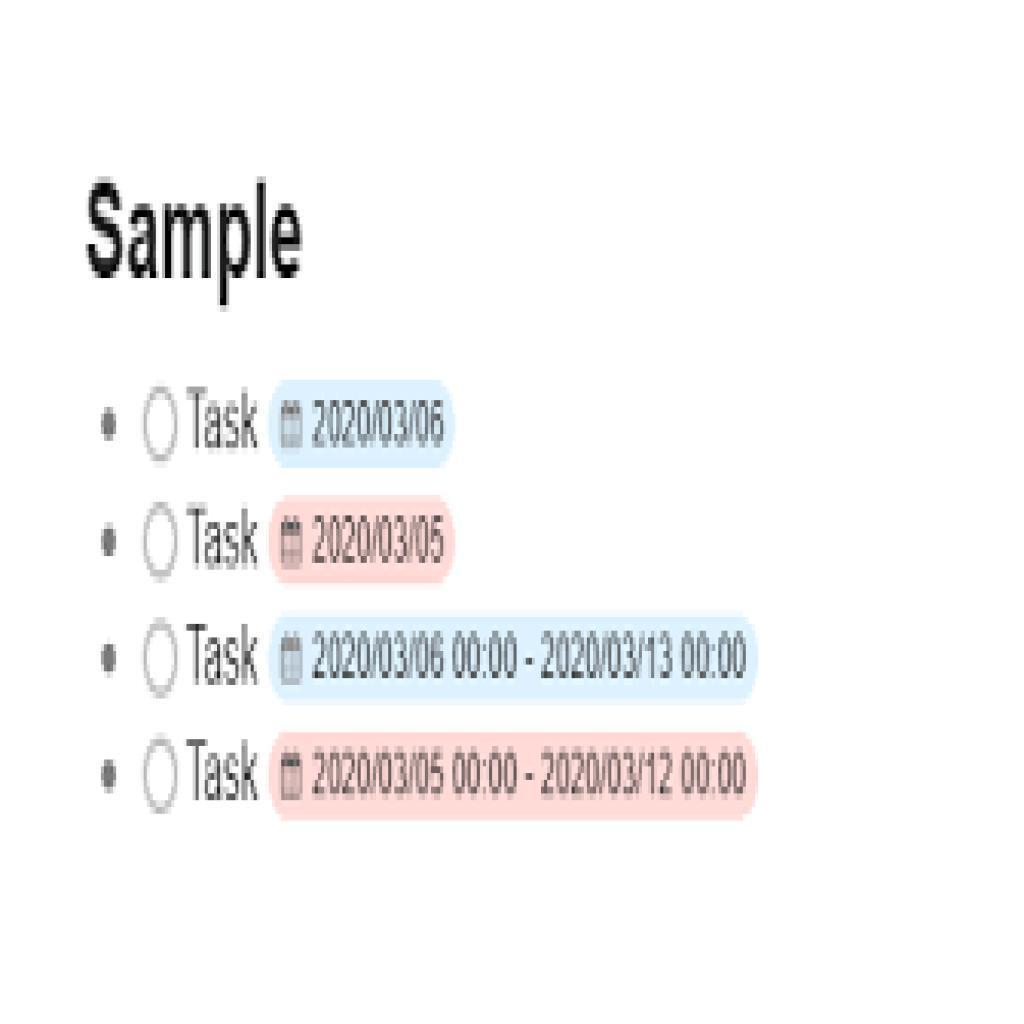radio: (138, 379, 183, 469), (141, 504, 183, 592), (143, 609, 181, 704), (142, 741, 182, 812)
